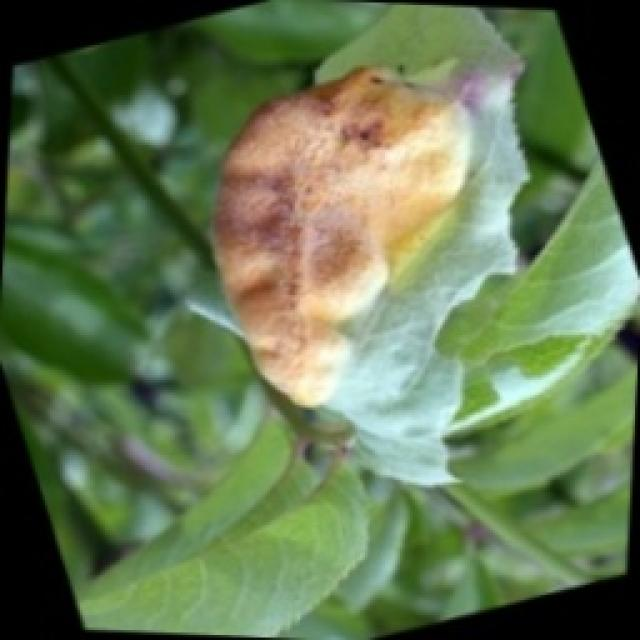Elderberry_rust: (207, 60, 475, 410)
